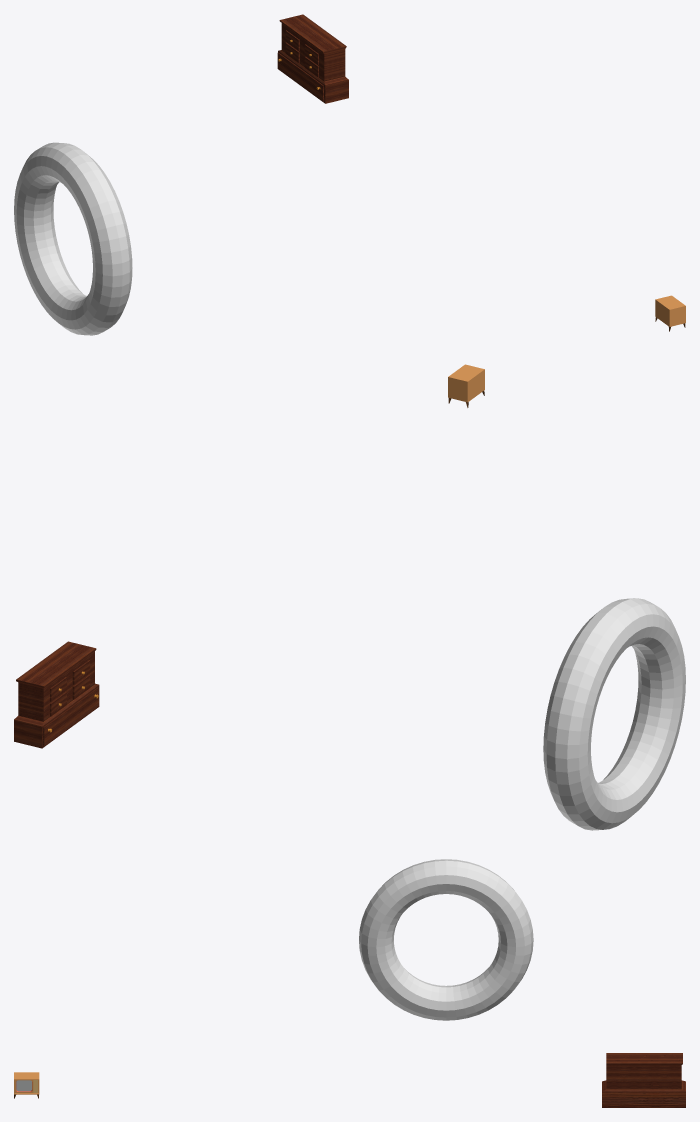
Rendered from Gaveteiro 2.fbx.
The picture shows the model from 3 angles, top to bottom: view 1: azimuth 30°, elevation 25°; view 2: azimuth 150°, elevation 25°; view 3: azimuth 270°, elevation 25°; orthographic projection. The views are drawn at different scales.
Parts seen in each view (by area): view 1: Torus, Cube.376, Cube.377, Tv com pezinho; view 2: Torus, Cube.376, Cube.377, Tv com pezinho; view 3: Torus, Cube.376, Tv com pezinho.
Part boxes in pixels (x1,y1,x2,y2): Torus: (14, 142, 132, 335); Cube.376: (278, 14, 348, 103); Cube.377: (277, 52, 323, 101); Tv com pezinho: (655, 295, 685, 331); Torus: (543, 598, 685, 830); Cube.376: (14, 641, 99, 748); Cube.377: (43, 687, 98, 746); Tv com pezinho: (448, 364, 484, 407); Torus: (359, 859, 533, 1020); Cube.376: (602, 1053, 685, 1107); Tv com pezinho: (14, 1072, 39, 1098).
Bounding box in the file's own units: 3287 × 1458 × 5606.
